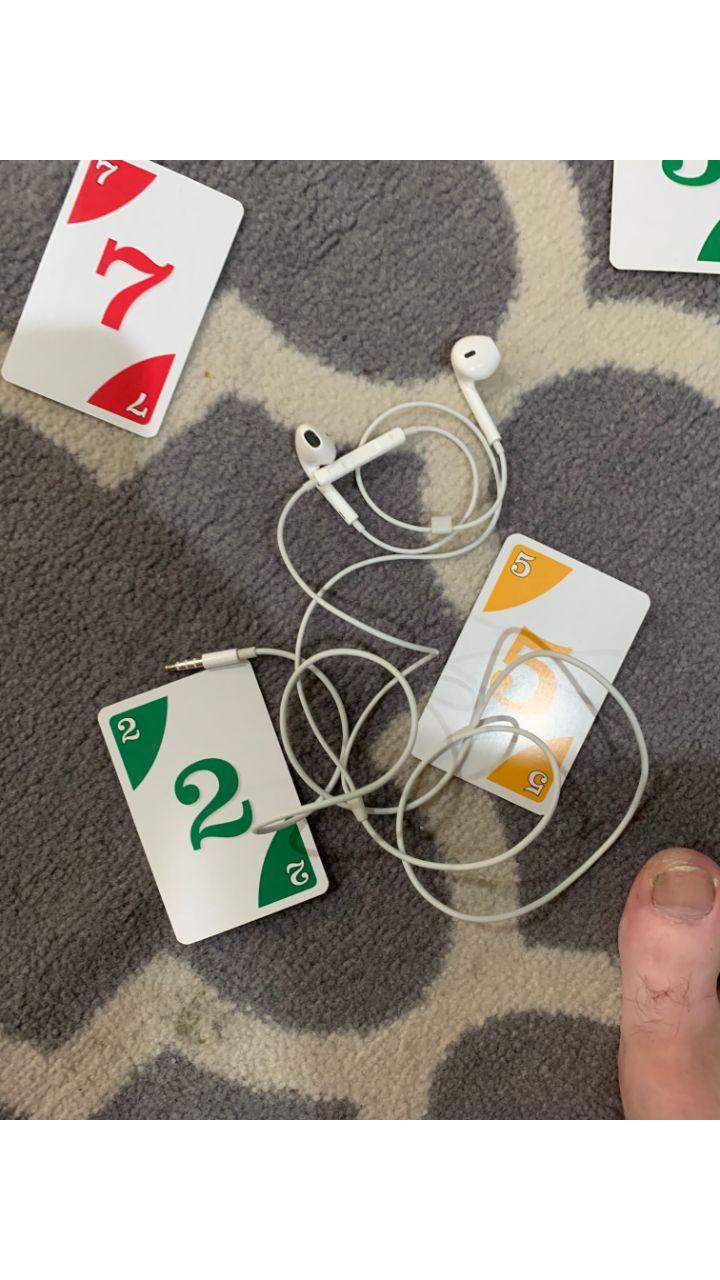five: (404, 530, 653, 817)
seven: (1, 157, 242, 441)
two: (96, 659, 338, 950)
